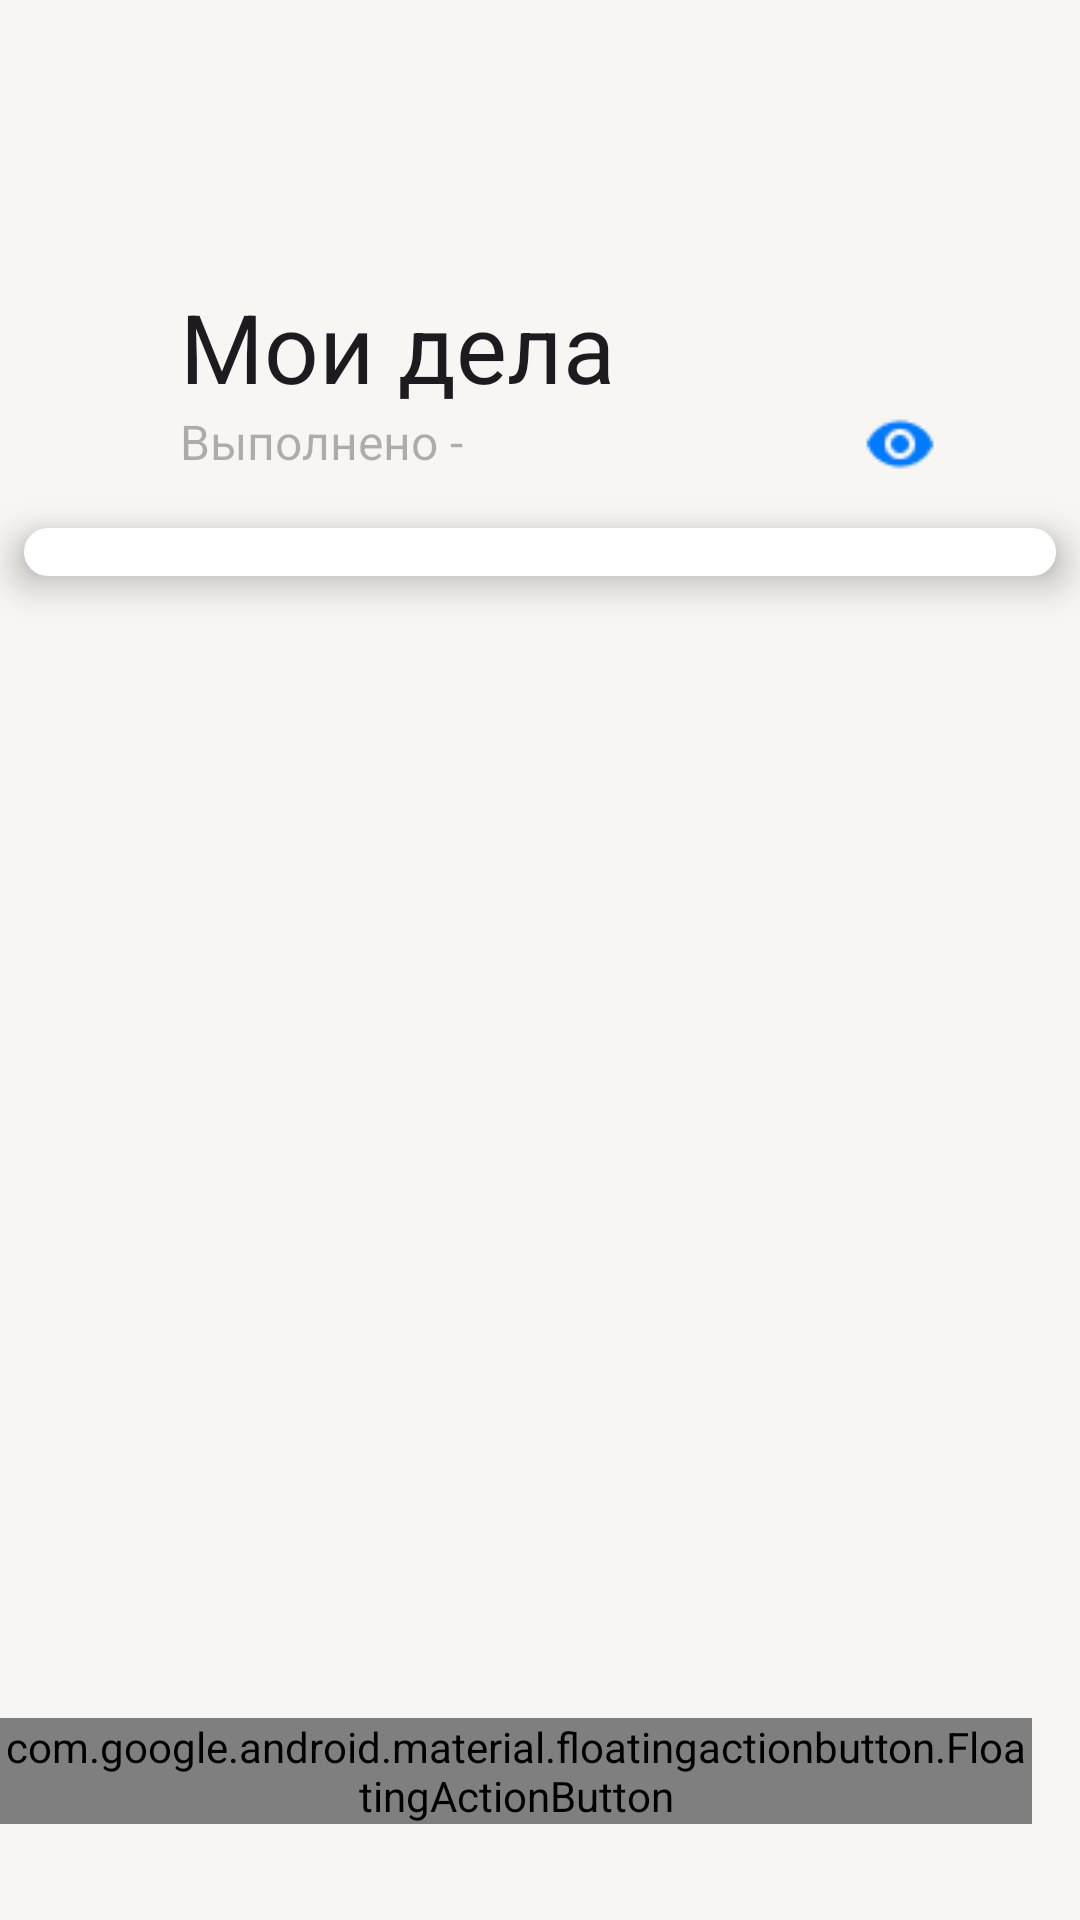

Locate icon controls on the screen. Image size 1080 x 1920, boxes as (x1, y1, x2, y2).
visibility: (866, 419, 934, 469)
